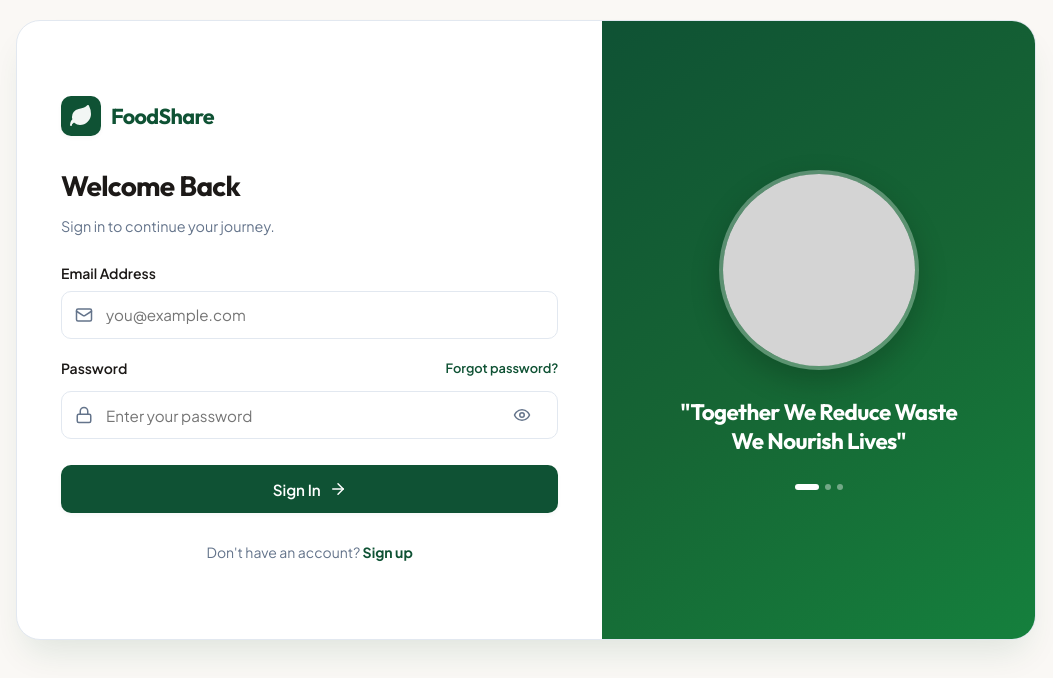
LoginPage Component › displays client error message when submitting empty form
Click the button "Sign In". click: (310, 489)
box: x1=61 y1=465 x2=558 y2=513
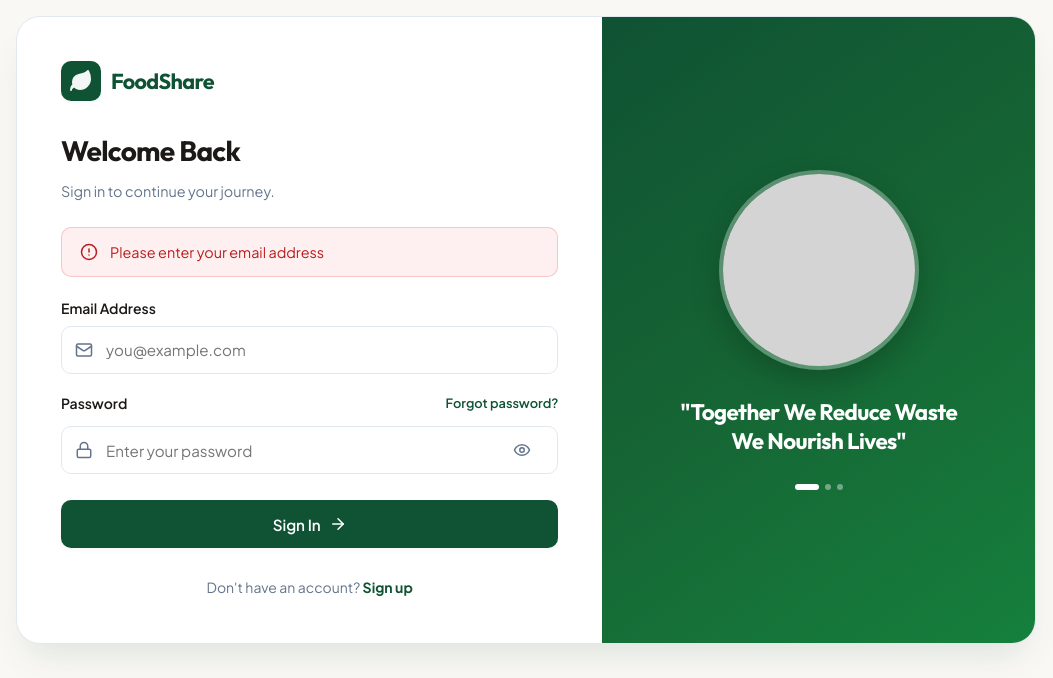
Check: the text "Please enter your email address" is shown, box x1=110 y1=242 x2=324 y2=262
